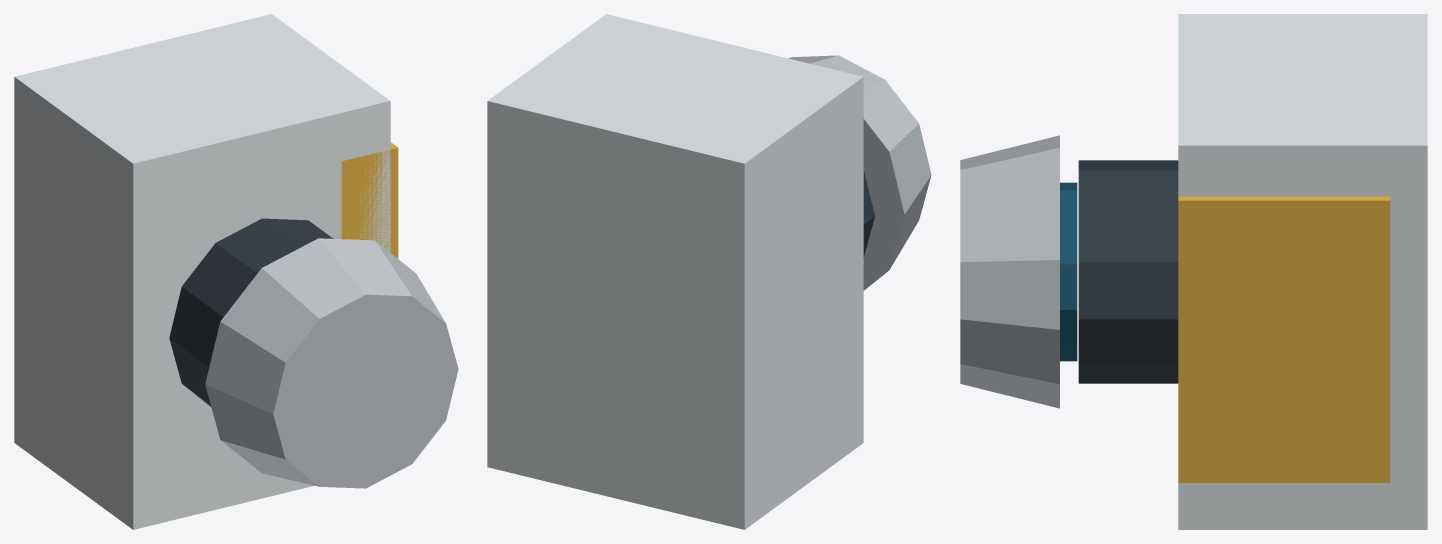
The model's file is perilune-starfield-camera.glb.
3 views of the same model, side by side, from view 1: azimuth 30°, elevation 25°; view 2: azimuth 150°, elevation 25°; view 3: azimuth 270°, elevation 25° (orthographic). The views are drawn at different scales.
Parts seen in each view (by area): view 1: SM_Science_StarfieldCamera_Housing, SM_Science_StarfieldCamera_Shade, SM_Science_StarfieldCamera_Lens, SM_Science_StarfieldCamera_Bus; view 2: SM_Science_StarfieldCamera_Housing, SM_Science_StarfieldCamera_Shade, SM_Science_StarfieldCamera_Lens; view 3: SM_Science_StarfieldCamera_Housing, SM_Science_StarfieldCamera_Bus, SM_Science_StarfieldCamera_Shade, SM_Science_StarfieldCamera_Lens, SM_Science_StarfieldCamera_Glass.
Boxes of the visible parts, x1,y1,x2,y2 form: SM_Science_StarfieldCamera_Housing: [14, 14, 390, 529]; SM_Science_StarfieldCamera_Shade: [205, 238, 458, 488]; SM_Science_StarfieldCamera_Lens: [169, 218, 333, 406]; SM_Science_StarfieldCamera_Bus: [341, 142, 398, 258]; SM_Science_StarfieldCamera_Housing: [487, 14, 863, 529]; SM_Science_StarfieldCamera_Shade: [788, 55, 931, 290]; SM_Science_StarfieldCamera_Lens: [863, 170, 874, 257]; SM_Science_StarfieldCamera_Housing: [1178, 14, 1427, 529]; SM_Science_StarfieldCamera_Bus: [1178, 196, 1390, 482]; SM_Science_StarfieldCamera_Shade: [960, 135, 1059, 408]; SM_Science_StarfieldCamera_Lens: [1078, 160, 1178, 383]; SM_Science_StarfieldCamera_Glass: [1060, 182, 1077, 361].
Bounding box in the file's own units: 0.2575 × 0.34 × 0.375.
